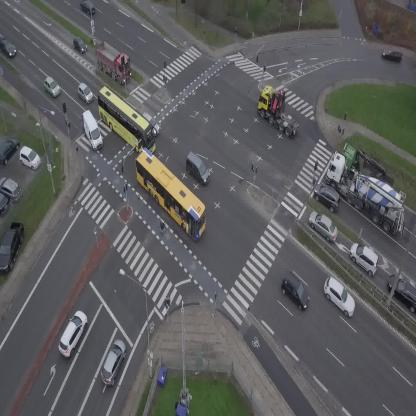bicycle: (158, 221, 166, 237)
bus: (122, 147, 219, 242), (85, 84, 166, 158)
car: (317, 274, 362, 319), (53, 308, 92, 359), (97, 337, 131, 387), (276, 270, 316, 312), (344, 239, 385, 278), (308, 178, 347, 216), (304, 208, 344, 245), (179, 151, 215, 186), (39, 75, 62, 100), (68, 35, 90, 57), (74, 82, 96, 104), (143, 110, 162, 133), (0, 34, 17, 59), (382, 49, 403, 62)
lorry: (249, 80, 313, 140), (338, 143, 402, 188), (86, 36, 140, 87), (77, 108, 105, 152)
